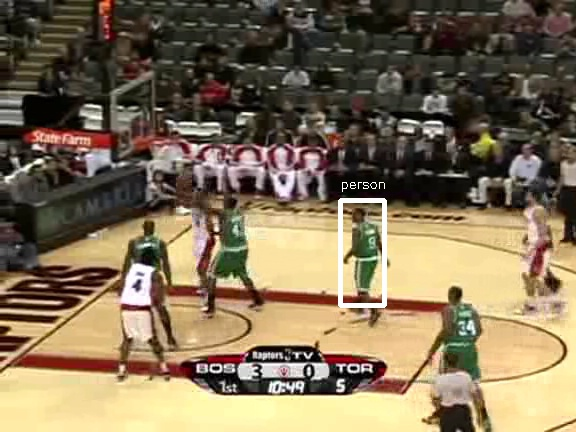person: (352, 216, 386, 297), (351, 216, 385, 297), (353, 216, 387, 297), (352, 215, 386, 296), (352, 217, 386, 298)
target_negative: (80, 306, 201, 432), (334, 197, 392, 394), (391, 264, 467, 323), (43, 336, 92, 422), (332, 2, 338, 244), (350, 231, 450, 244)
